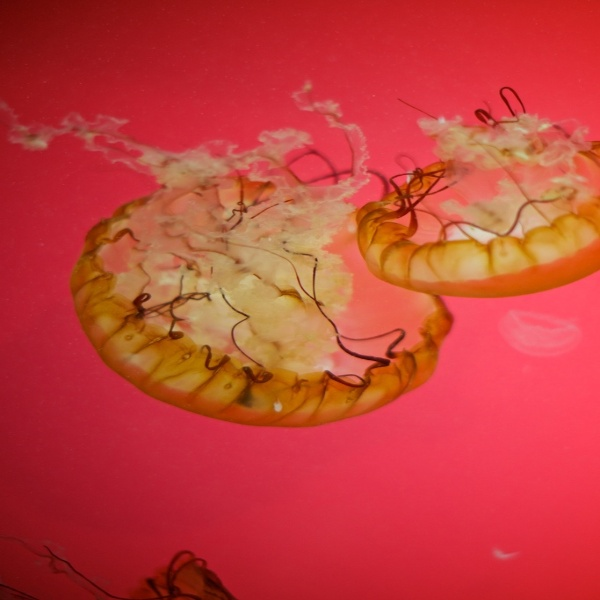Jellyfish: (45, 57, 559, 417), (343, 82, 599, 304)
